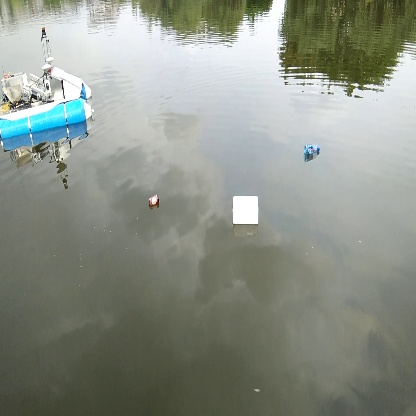bottle: (300, 140, 325, 160)
plastic-garbage: (229, 192, 267, 231)
